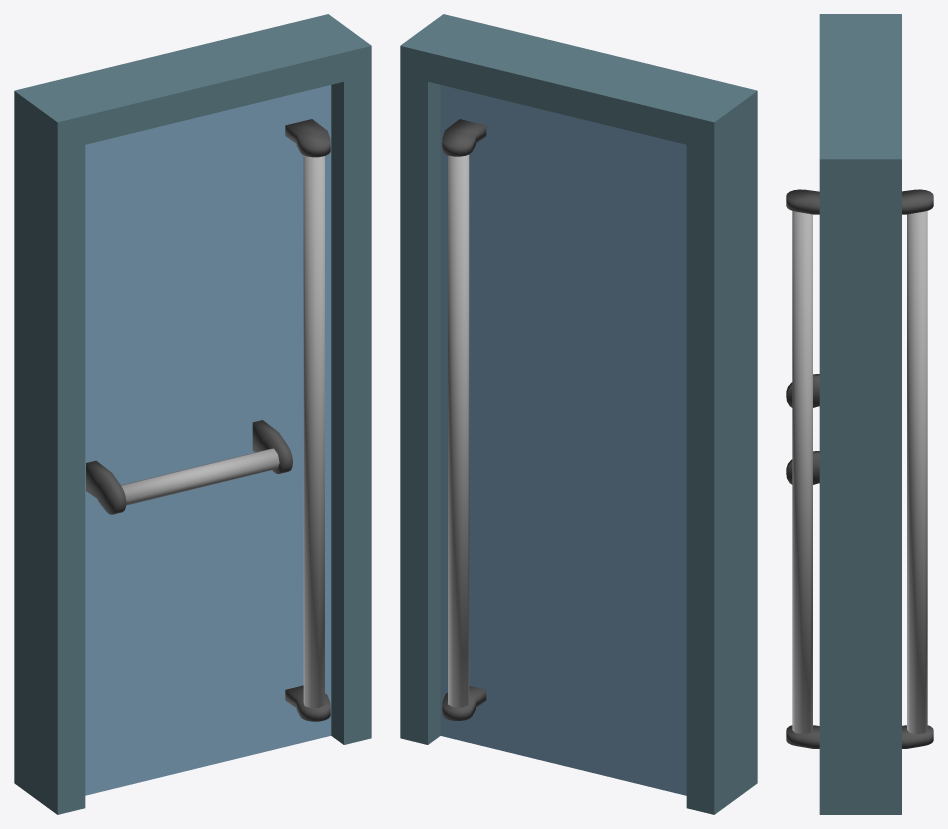
File: d-door-arcade-entry.glb
3 views of the same model, side by side, from view 1: azimuth 30°, elevation 25°; view 2: azimuth 150°, elevation 25°; view 3: azimuth 270°, elevation 25° (orthographic). The views are drawn at different scales.
Parts seen in each view (by area): view 1: arcadeEntranceDoor, arcadeEntranceDoor.001; view 2: arcadeEntranceDoor, arcadeEntranceDoor.001; view 3: arcadeEntranceDoor.001, arcadeEntranceDoor.
Boxes of the visible parts, left/top/right/bottom form: arcadeEntranceDoor: left=85, top=85, right=331, bottom=795; arcadeEntranceDoor.001: left=14, top=14, right=371, bottom=814; arcadeEntranceDoor: left=440, top=85, right=686, bottom=795; arcadeEntranceDoor.001: left=400, top=14, right=757, bottom=814; arcadeEntranceDoor.001: left=819, top=14, right=901, bottom=814; arcadeEntranceDoor: left=786, top=189, right=933, bottom=748.
Bounding box in the file's own units: 0.9425 × 1.99 × 0.4043.
1 material, 1 textured.
